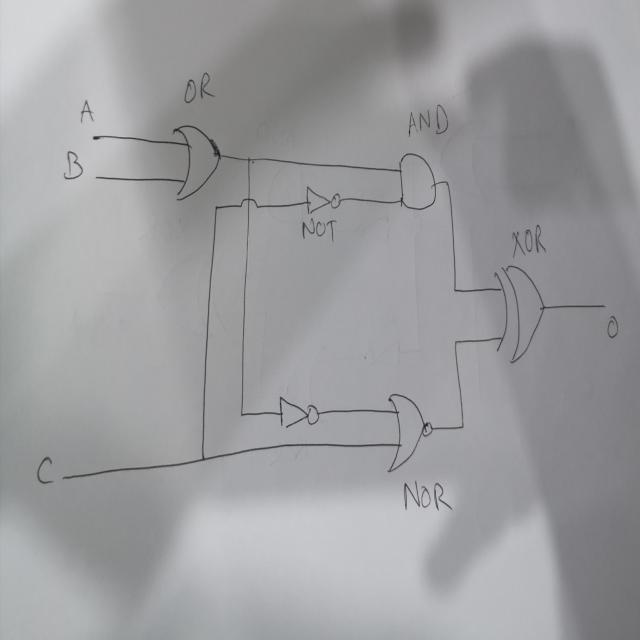crossover: (238, 194, 260, 211)
junction: (458, 415, 468, 434), (198, 449, 207, 466), (452, 336, 461, 349), (444, 176, 451, 189), (451, 283, 458, 295), (246, 153, 252, 164), (239, 409, 244, 419), (213, 203, 218, 211)
terminal: (596, 299, 608, 312), (90, 129, 98, 144), (92, 170, 100, 184), (60, 470, 66, 484)
text: (402, 478, 452, 516), (404, 103, 450, 138), (510, 223, 547, 260), (182, 70, 215, 105), (302, 216, 337, 244), (62, 146, 84, 181), (35, 451, 55, 486), (79, 95, 95, 125), (606, 313, 619, 340)
